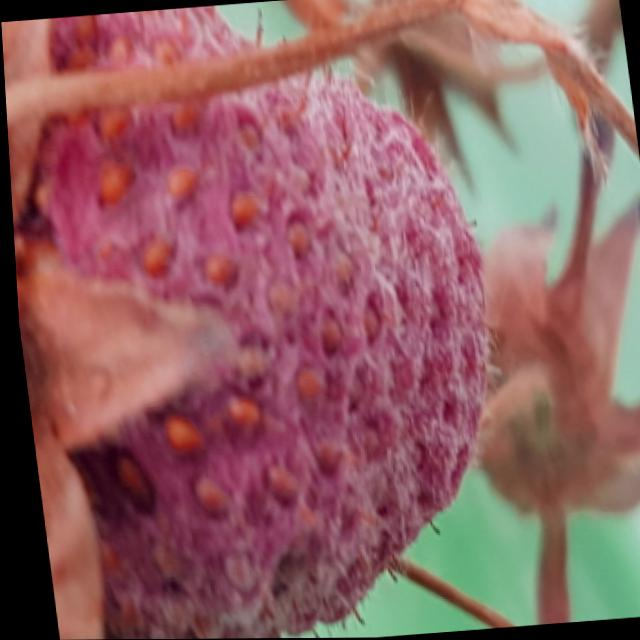Powdery Mildew Fruit: (2, 6, 487, 640)
